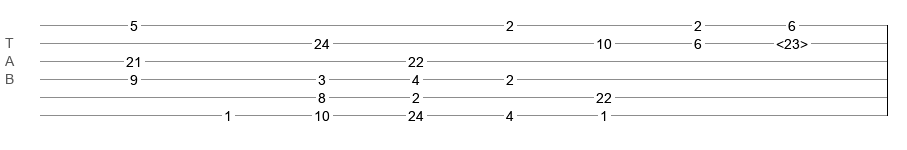1: (224, 108, 232, 118), (600, 108, 608, 118)
10: (314, 108, 330, 118), (596, 36, 612, 46)
2: (412, 90, 420, 100), (506, 72, 514, 82), (506, 18, 514, 28), (694, 18, 702, 28)
21: (126, 54, 142, 64)
22: (408, 54, 424, 64), (596, 90, 612, 100)
24: (314, 36, 330, 46), (408, 108, 424, 118)
3: (318, 72, 326, 82)
4: (412, 72, 420, 82), (506, 108, 514, 118)
5: (130, 18, 138, 28)
6: (694, 36, 702, 46), (788, 18, 796, 28)
8: (318, 90, 326, 100)
9: (130, 72, 138, 82)
harmonic: (776, 36, 808, 46)
